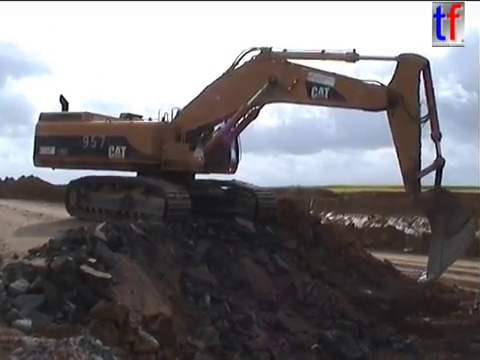excavator: (29, 43, 476, 286)
